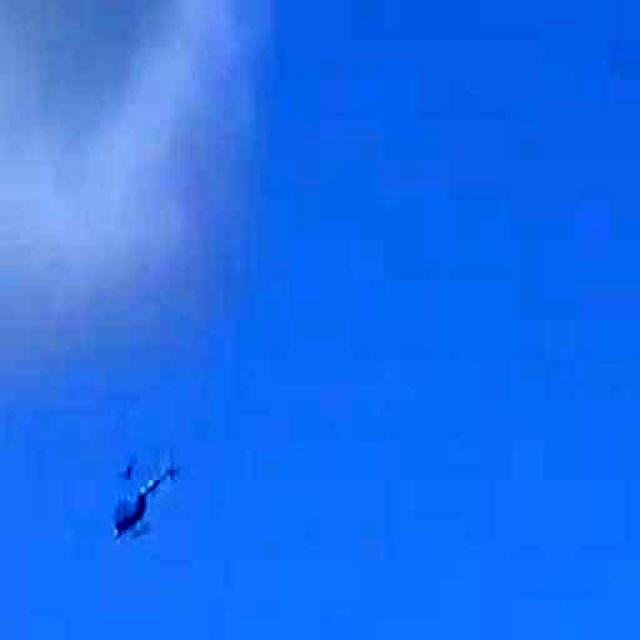drone: (66, 425, 204, 568)
